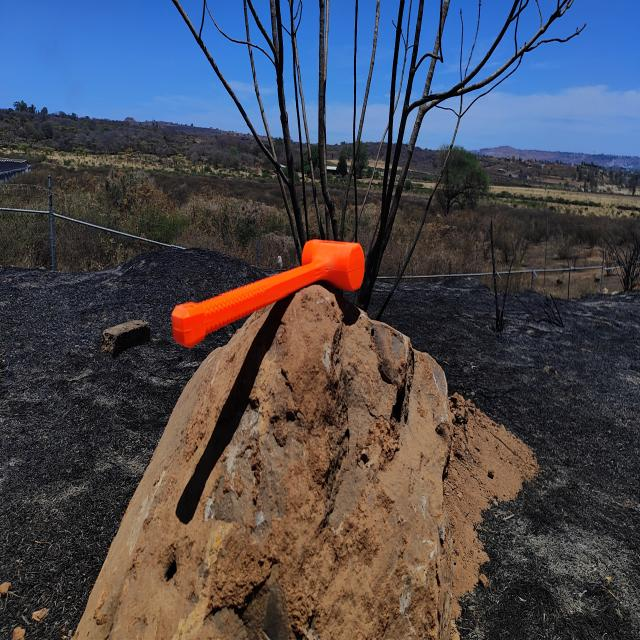Orange_hammer: (171, 238, 365, 350)
rock: (72, 295, 459, 639)
